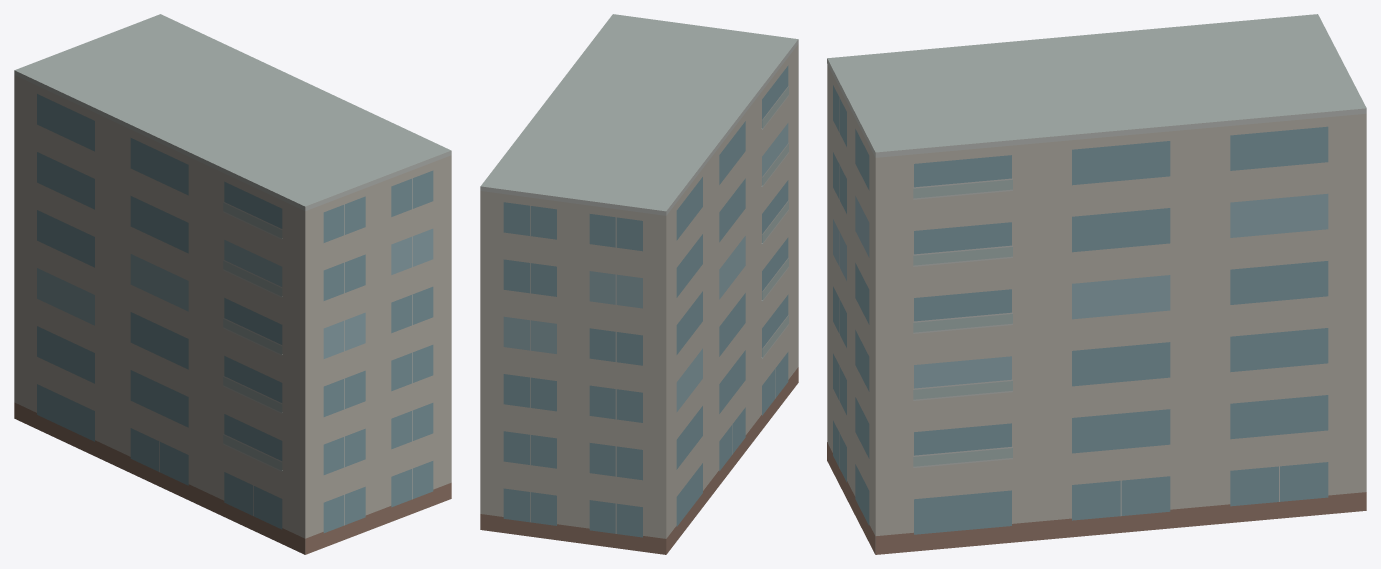
The model's file is survey-upis-32707545.glb.
3 renders of one model, left to right at view 1: azimuth 30°, elevation 25°; view 2: azimuth 150°, elevation 25°; view 3: azimuth 270°, elevation 25°, orthographic. The views are drawn at different scales.
Visible parts, largest first — view 1: survey-upis-32707545.tmp; view 2: survey-upis-32707545.tmp; view 3: survey-upis-32707545.tmp.
Boxes of the visible parts, bbox=[...] form: survey-upis-32707545.tmp: bbox=[14, 14, 451, 554]; survey-upis-32707545.tmp: bbox=[480, 14, 798, 554]; survey-upis-32707545.tmp: bbox=[827, 14, 1366, 554].
Size of the model in its own units: 13.52 by 18.3 by 22.25.
